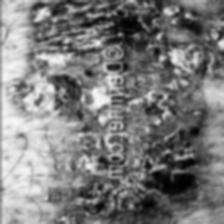Non-Cancerous Skin Condition: (24, 0, 164, 56), (26, 76, 58, 112), (207, 13, 224, 61)
